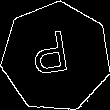P_S: (34, 29, 78, 85)
